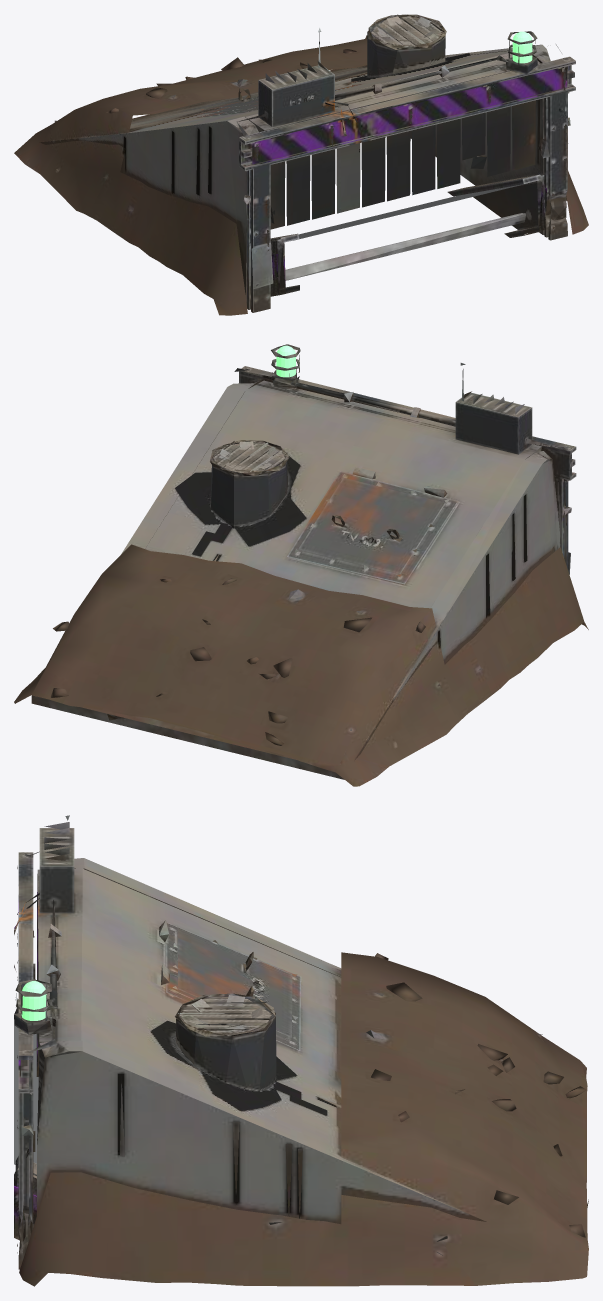
Rendered from esteira_tunel_entrada_quantica.glb.
3 views of the same model, one above another, from view 1: azimuth 30°, elevation 25°; view 2: azimuth 150°, elevation 25°; view 3: azimuth 270°, elevation 25° (orthographic). The views are drawn at different scales.
Parts seen in each view (by area): view 1: esteira_tunel_entrada_quantica_corpo; view 2: esteira_tunel_entrada_quantica_corpo; view 3: esteira_tunel_entrada_quantica_corpo.
Boxes of the visible parts, left/top/right/bottom form: esteira_tunel_entrada_quantica_corpo: left=14, top=14, right=588, bottom=315; esteira_tunel_entrada_quantica_corpo: left=14, top=344, right=588, bottom=786; esteira_tunel_entrada_quantica_corpo: left=14, top=815, right=588, bottom=1286.
Size of the model in its own units: 0.9415 by 0.6062 by 1.
4 materials, 1 textured.
